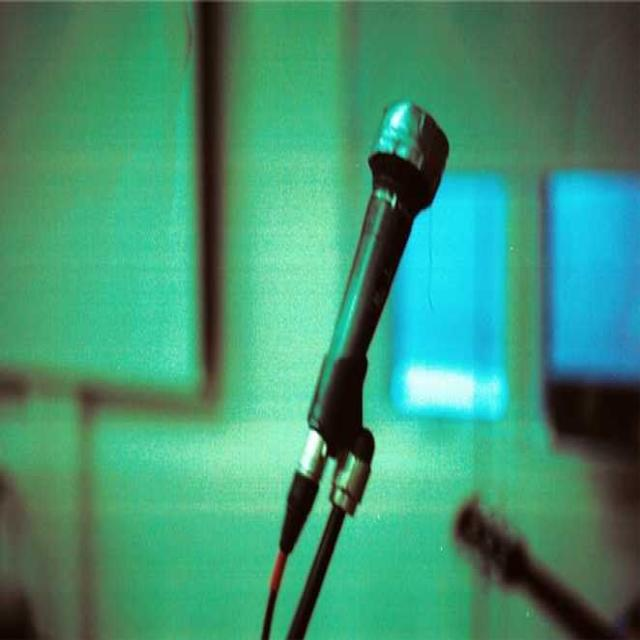microphone: (294, 95, 452, 505)
